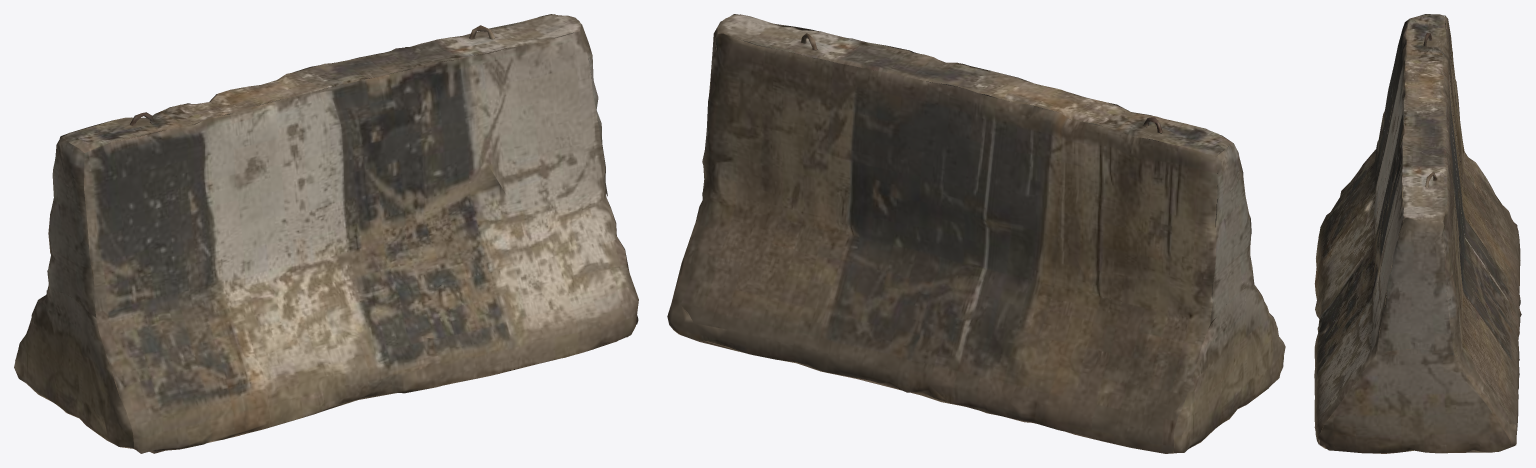
Rendered from concrete_road_barrier.glb.
3 renders of one model, left to right at view 1: azimuth 30°, elevation 25°; view 2: azimuth 150°, elevation 25°; view 3: azimuth 270°, elevation 25°, orthographic. The views are drawn at different scales.
Parts seen in each view (by area): view 1: concrete_road_barrier; view 2: concrete_road_barrier; view 3: concrete_road_barrier.
Part boxes in pixels (x1,y1,x2,y2): concrete_road_barrier: [14, 14, 638, 453]; concrete_road_barrier: [667, 14, 1285, 453]; concrete_road_barrier: [1314, 14, 1521, 453].
Bounding box in the file's own units: 1.54 × 0.8336 × 0.6358.
1 material, 1 textured.
